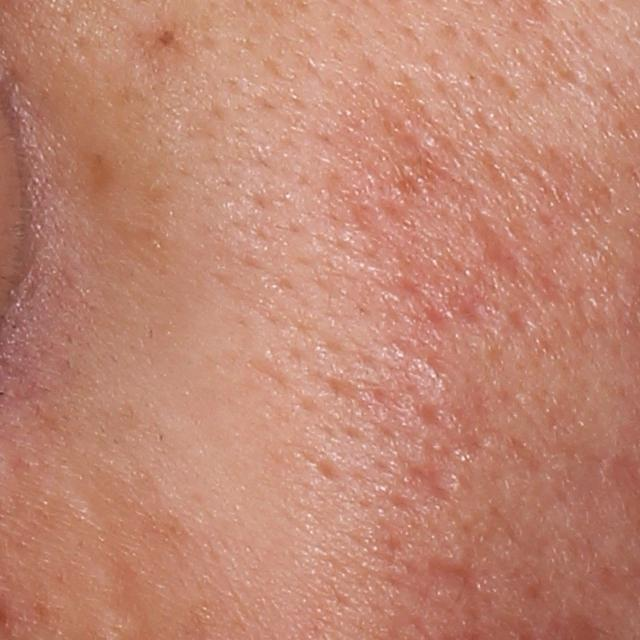atrophic_scar: (403, 403, 478, 510), (303, 454, 350, 488)
